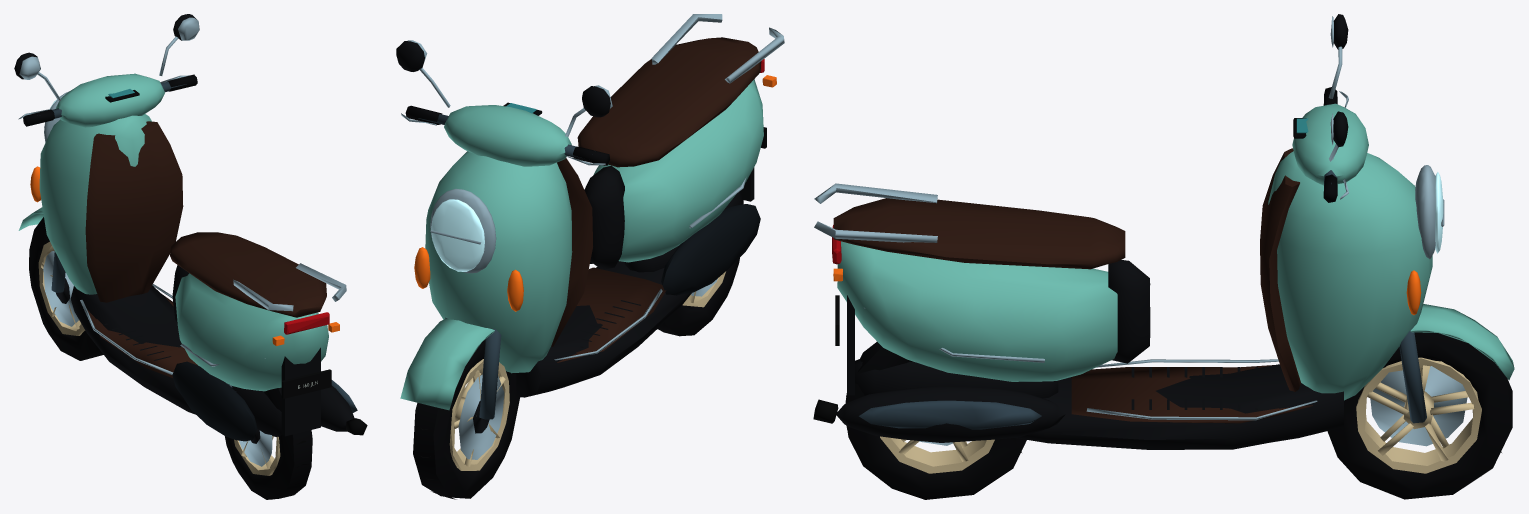
The model's file is retro_scooter_mint_lod1.glb.
The picture shows the model from 3 angles, left to right: view 1: azimuth 30°, elevation 25°; view 2: azimuth 150°, elevation 25°; view 3: azimuth 270°, elevation 25°; orthographic projection. The views are drawn at different scales.
Parts seen in each view (by area): view 1: Body_Mesh, Steering_Pivot_Mesh, Wheel_Rear_Mesh, Wheel_Front_Mesh, TailLights_Mesh, Indicators_Mesh; view 2: Body_Mesh, Steering_Pivot_Mesh, Wheel_Front_Mesh, Headlights_Mesh, Wheel_Rear_Mesh, Indicators_Mesh; view 3: Body_Mesh, Wheel_Front_Mesh, Steering_Pivot_Mesh, Wheel_Rear_Mesh, Headlights_Mesh.
Part boxes in pixels (x1,y1,x2,y2): Body_Mesh: [39, 114, 367, 441]; Steering_Pivot_Mesh: [14, 14, 199, 292]; Wheel_Rear_Mesh: [225, 387, 312, 499]; Wheel_Front_Mesh: [29, 217, 103, 360]; TailLights_Mesh: [284, 312, 329, 334]; Indicators_Mesh: [30, 166, 339, 345]; Body_Mesh: [425, 14, 784, 397]; Steering_Pivot_Mesh: [396, 40, 612, 419]; Wheel_Front_Mesh: [413, 339, 519, 499]; Headlights_Mesh: [430, 188, 496, 273]; Wheel_Rear_Mesh: [657, 191, 743, 336]; Indicators_Mesh: [414, 75, 776, 311]; Body_Mesh: [813, 148, 1432, 449]; Wheel_Front_Mesh: [1327, 332, 1512, 499]; Steering_Pivot_Mesh: [1292, 14, 1514, 423]; Wheel_Rear_Mesh: [845, 342, 1026, 499]; Headlights_Mesh: [1415, 165, 1444, 259].
Size of the model in its own units: 0.6925 by 1.24 by 1.83.
Materials: 2 (1 with a texture image).
